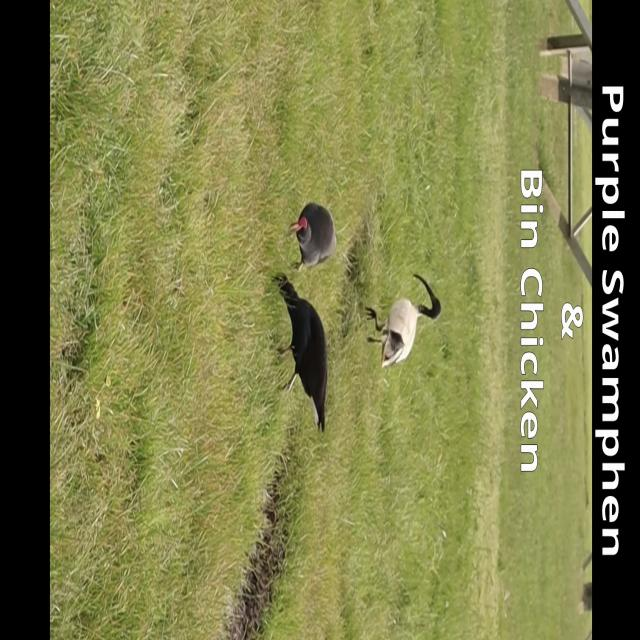Birds-Ibis: (361, 270, 443, 374)
Birds-Other: (270, 274, 330, 434), (284, 200, 338, 278)
